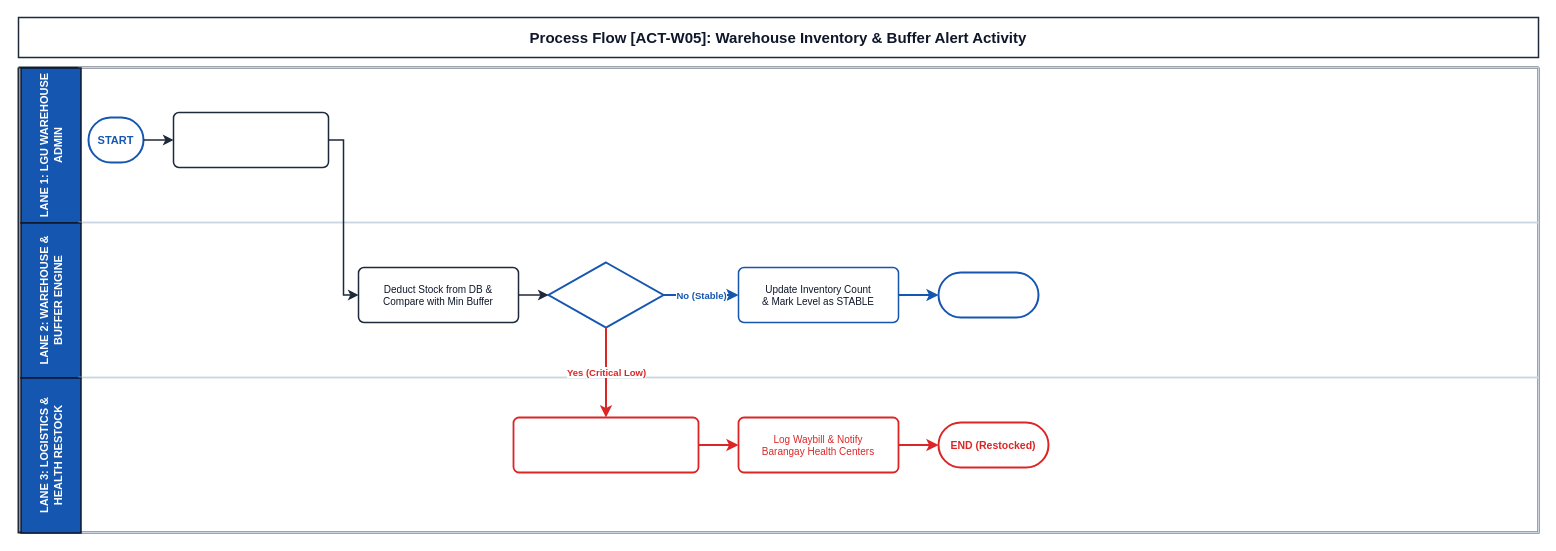
Some shapes in this 1556 by 551 pixel diagram are drawn without their labels. The shapes that lost their labels are listed below. From the top down, each one's centre as x and y in pixels, then its label:
(x=250, y=139): Log Stock Movement (Goods In / Dispatched Out)
(x=605, y=294): Below Critical Threshold?
(x=988, y=294): END (Updated)
(x=605, y=444): TRIGGER CRITICAL ALERT! Dispatch Medicine Buffer Restock
